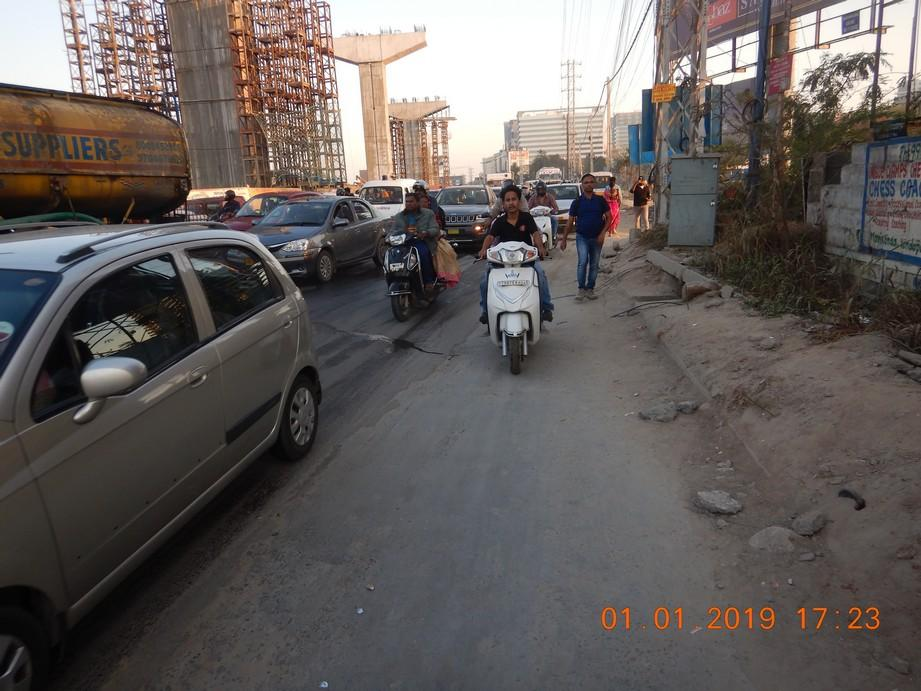plate: (497, 279, 532, 287)
